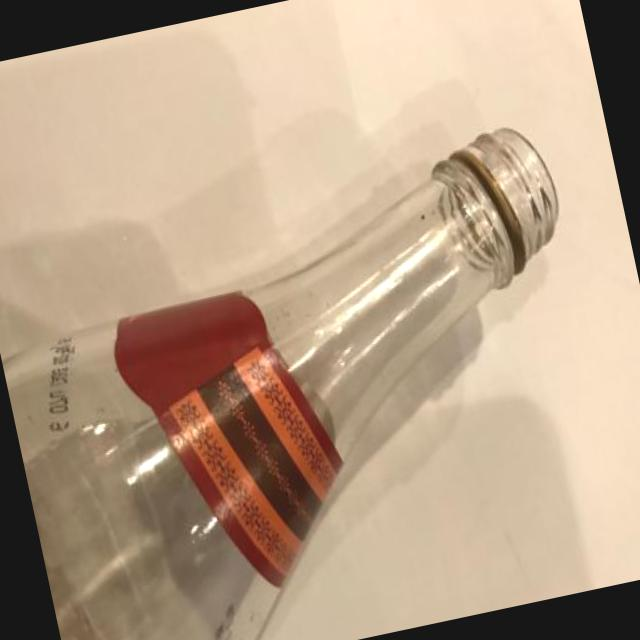chai_thuy_tinh: (250, 128, 558, 457), (2, 326, 278, 640)
